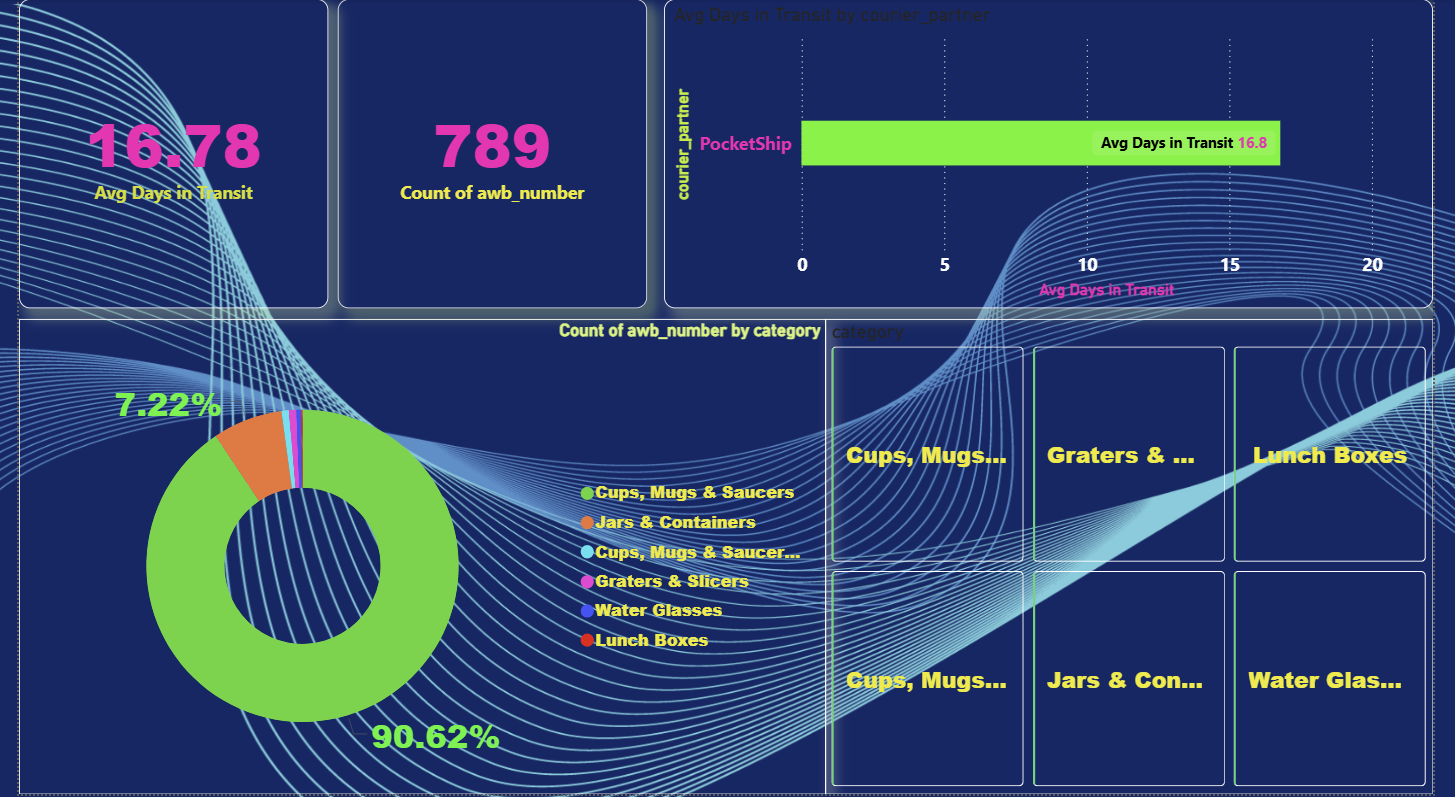

This screenshot's page, from the dashboard's own definition file:
{"tool":"powerbi","page":{"name":"Page 1","canvas":[1280,720],"ordinal":0},"visuals":[{"type":"card","fields":{"Values":["public meesho_logistics_fact.Avg Days in Transit"]},"box":[0,0,280,280],"z":0},{"type":"donutChart","fields":{"Category":["public meesho_logistics_fact.category"],"Y":["CountNonNull(public meesho_logistics_fact.awb_number)"]},"box":[0,290,730,430],"z":1000},{"type":"clusteredBarChart","fields":{"Category":["public meesho_logistics_fact.courier_partner"],"Y":["public meesho_logistics_fact.Avg Days in Transit"]},"box":[583.8,0,696.2,280],"z":2000},{"type":"card","fields":{"Values":["CountNonNull(public meesho_logistics_fact.awb_number)"]},"box":[288.8,0,280,280],"z":3000},{"type":"advancedSlicerVisual","fields":{"Values":["public meesho_logistics_fact.category"]},"box":[730,290,550,430],"z":4000}]}

Visuals, with their boxes in screenshot pixels (x1, y1, x2, y2), scaled from the page's 1280x720 canvas onto the 1455x797 screenshot:
card - public meesho_logistics_fact.Avg Days in Transit: [left=0, top=0, right=318, bottom=310]
donutChart - public meesho_logistics_fact.category x CountNonNull(public meesho_logistics_fact.awb_number): [left=0, top=321, right=830, bottom=796]
clusteredBarChart - public meesho_logistics_fact.courier_partner x public meesho_logistics_fact.Avg Days in Transit: [left=664, top=0, right=1454, bottom=310]
card - CountNonNull(public meesho_logistics_fact.awb_number): [left=328, top=0, right=647, bottom=310]
advancedSlicerVisual - public meesho_logistics_fact.category: [left=830, top=321, right=1454, bottom=796]
